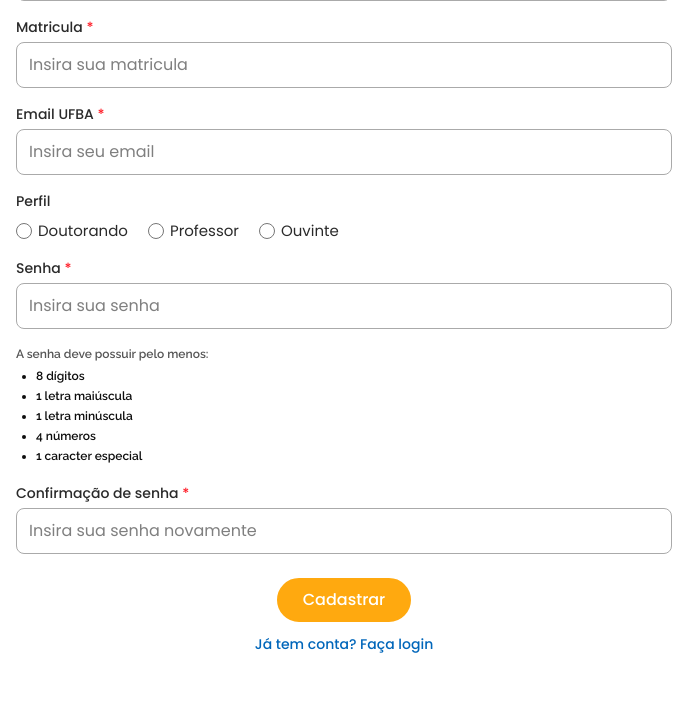
it: RegisterPage › shows validation errors on empty submit
(page scrolled)
Click the button "Cadastrar".
click(344, 600)  # box [277, 578, 411, 622]
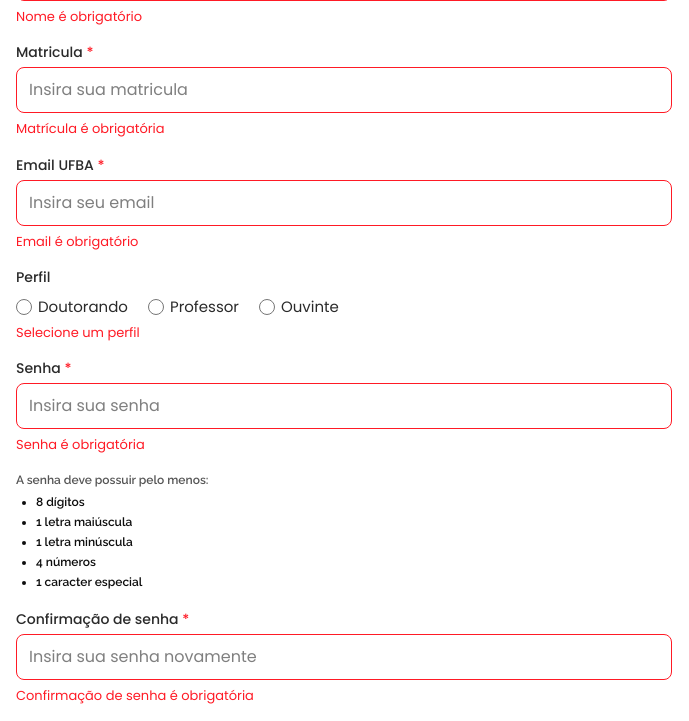
Check: the text "Nome é obrigatório" is shown, box [16, 7, 142, 26]
Check: the text "Selecione um perfil" is shown, box [16, 323, 140, 342]
Check: the text "Email é obrigatório" is shown, box [16, 232, 138, 251]
